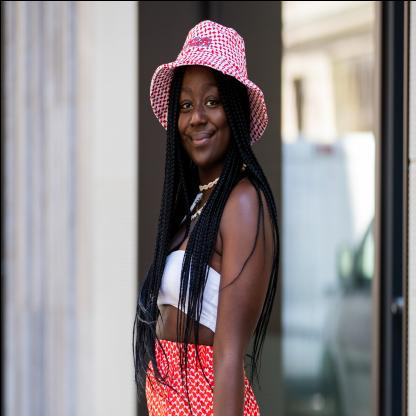hat: (143, 16, 269, 152)
